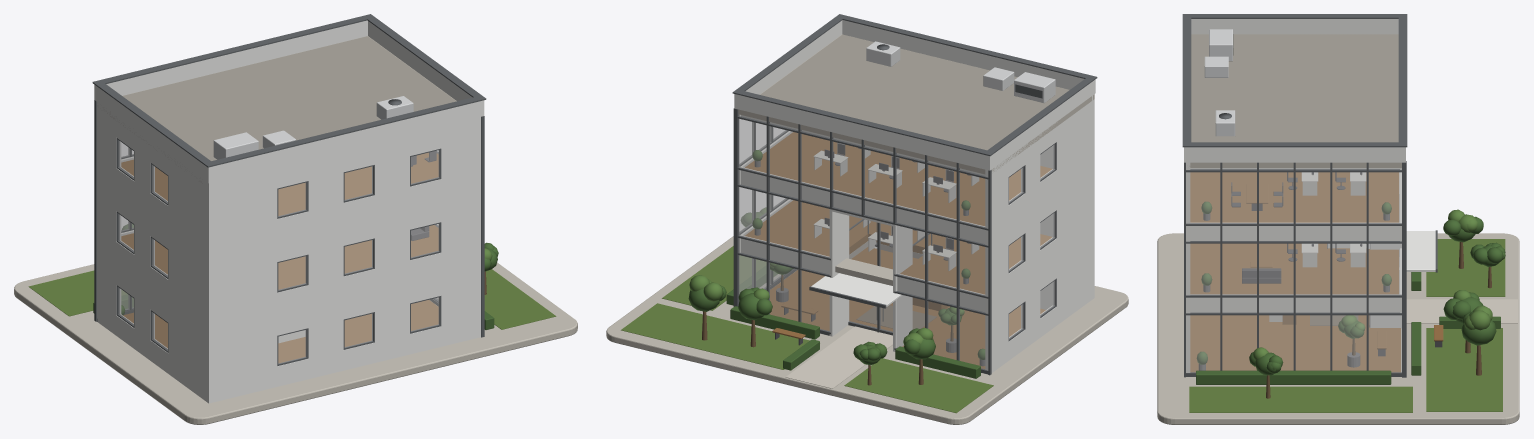
Rendered from car.glb.
The picture shows the model from 3 angles, left to right: view 1: azimuth 30°, elevation 25°; view 2: azimuth 150°, elevation 25°; view 3: azimuth 270°, elevation 25°; orthographic projection. The views are drawn at different scales.
Parts seen in each view (by area): view 1: Wall_Back, Wall_Left, Slabs, Plinth, Shell_White, Facade_Frames, Wood_Elements, Lawns, Roof_HVAC, Glass_B1_0, Glass_B1_2, Glass_B2_2 (+6 smaller); view 2: Shell_White, Wood_Elements, Slabs, Wall_Left, Facade_Frames, Plinth, Lawns, Plants_In, Hedges, Paths, Desks_White, Roof_HVAC (+27 smaller); view 3: Wood_Elements, Slabs, Shell_White, Lawns, Plinth, Facade_Frames, Plants_In, Hedges, Furniture_Dk, Glass_R0_4, Glass_R0_3, Glass_R0_5 (+19 smaller).
Boxes of the visible parts, x1,y1,x2,y2 form: Wall_Back: (206,117,480,403); Wall_Left: (97,102,208,402); Slabs: (97,36,456,183); Plinth: (14,262,577,424); Shell_White: (94,20,484,235); Facade_Frames: (92,14,486,365); Wood_Elements: (121,152,438,362); Lawns: (28,269,556,329); Roof_HVAC: (213,96,413,159); Glass_B1_0: (278,256,306,290); Glass_B1_2: (411,224,439,257); Glass_B2_2: (411,150,439,184); Shell_White: (734,20,1095,351); Wood_Elements: (745,132,1051,368); Slabs: (738,34,1094,285); Wall_Left: (985,99,1094,372); Facade_Frames: (732,14,1097,375); Plinth: (606,236,1128,424); Lawns: (621,246,993,413); Plants_In: (688,150,985,365); Hedges: (726,266,980,378); Paths: (785,326,892,388); Desks_White: (813,143,979,270); Roof_HVAC: (866,41,1055,102); Wood_Elements: (1190,172,1443,372); Slabs: (1189,34,1401,293); Shell_White: (1184,19,1435,328); Lawns: (1189,239,1505,412); Plinth: (1157,233,1519,424); Facade_Frames: (1182,14,1437,377); Plants_In: (1196,201,1505,375); Hedges: (1196,272,1500,384); Furniture_Dk: (1198,172,1442,370); Glass_R0_4: (1332,315,1366,370); Glass_R0_3: (1296,315,1329,370); Glass_R0_5: (1369,315,1401,372).
Bounding box in the file's own units: 20 × 12.01 × 16.5.
